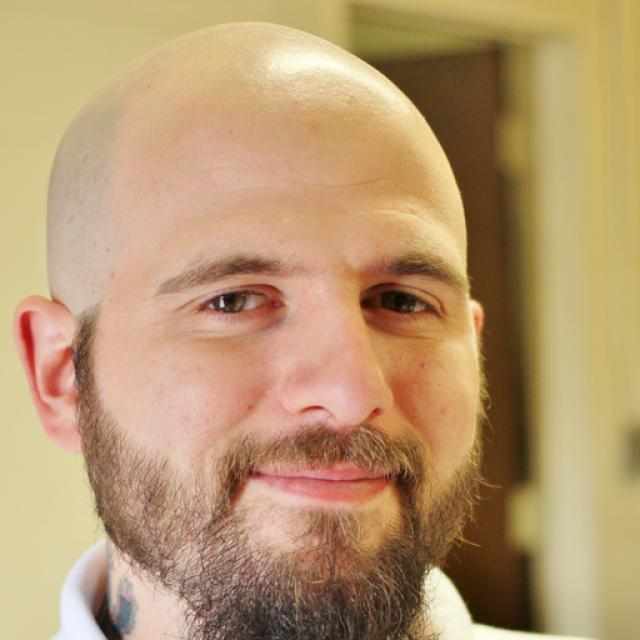happy: (88, 102, 480, 628)
